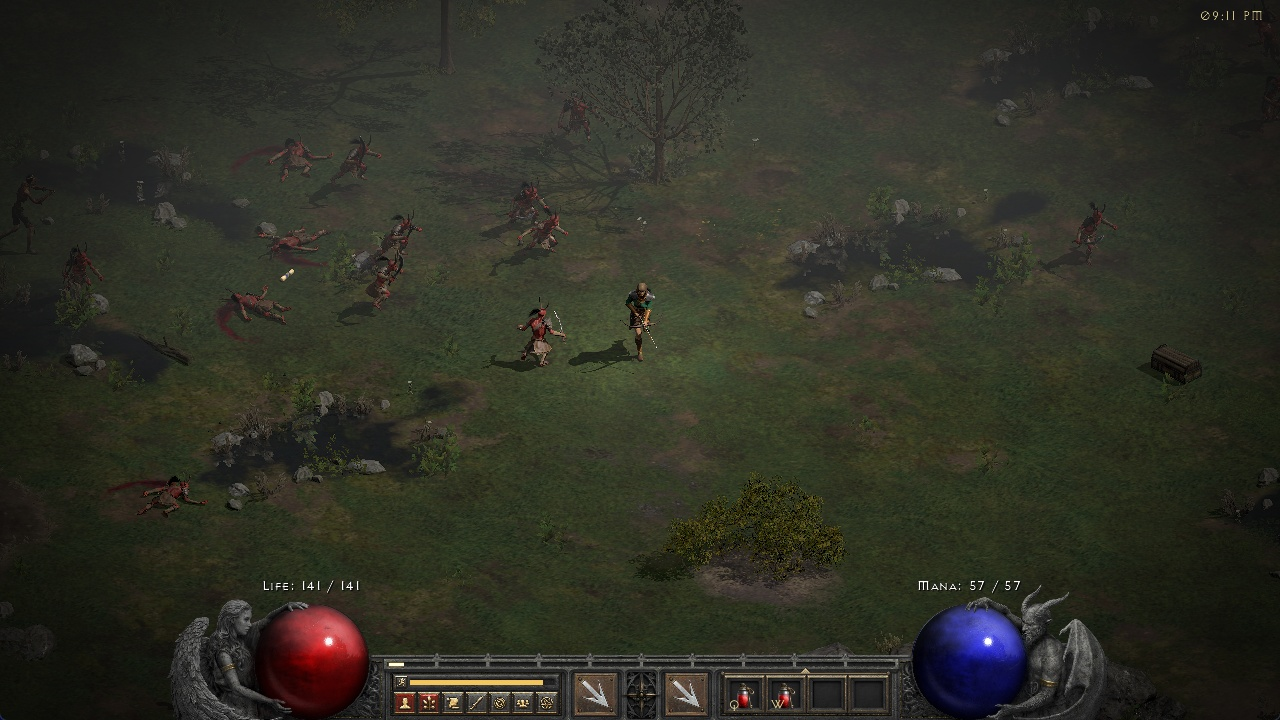fallen: (509, 299, 568, 373), (1069, 201, 1116, 265), (335, 135, 385, 186), (62, 242, 103, 298), (365, 254, 405, 311), (522, 207, 569, 252), (379, 208, 419, 252), (560, 95, 593, 141), (501, 190, 548, 205)
